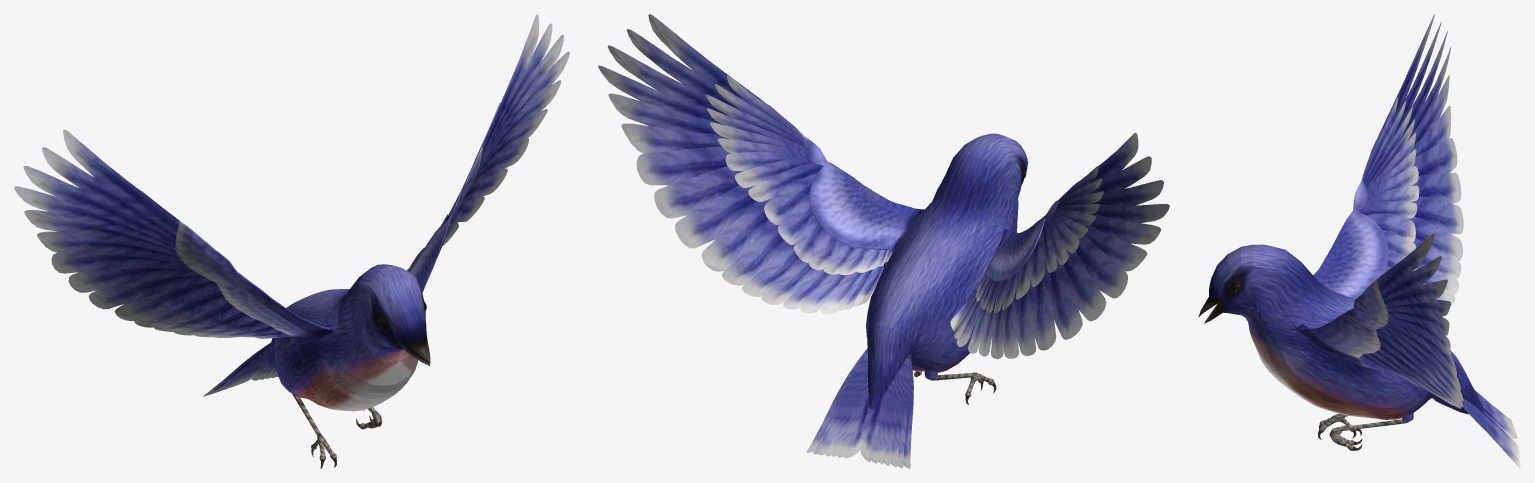
The model's file is bluebird.FBX.
The picture shows the model from 3 angles, left to right: view 1: azimuth 30°, elevation 25°; view 2: azimuth 150°, elevation 25°; view 3: azimuth 270°, elevation 25°; orthographic projection. The views are drawn at different scales.
Parts seen in each view (by area): view 1: bird_1Figu; view 2: bird_1Figu; view 3: bird_1Figu.
Boxes of the visible parts, box(x1,y1,x2,y2) form: bird_1Figu: box(14, 14, 569, 468); bird_1Figu: box(598, 14, 1169, 468); bird_1Figu: box(1198, 14, 1520, 468).
Bounding box in the file's own units: 5.65 × 3.37 × 2.99.
1 material, 1 textured.
